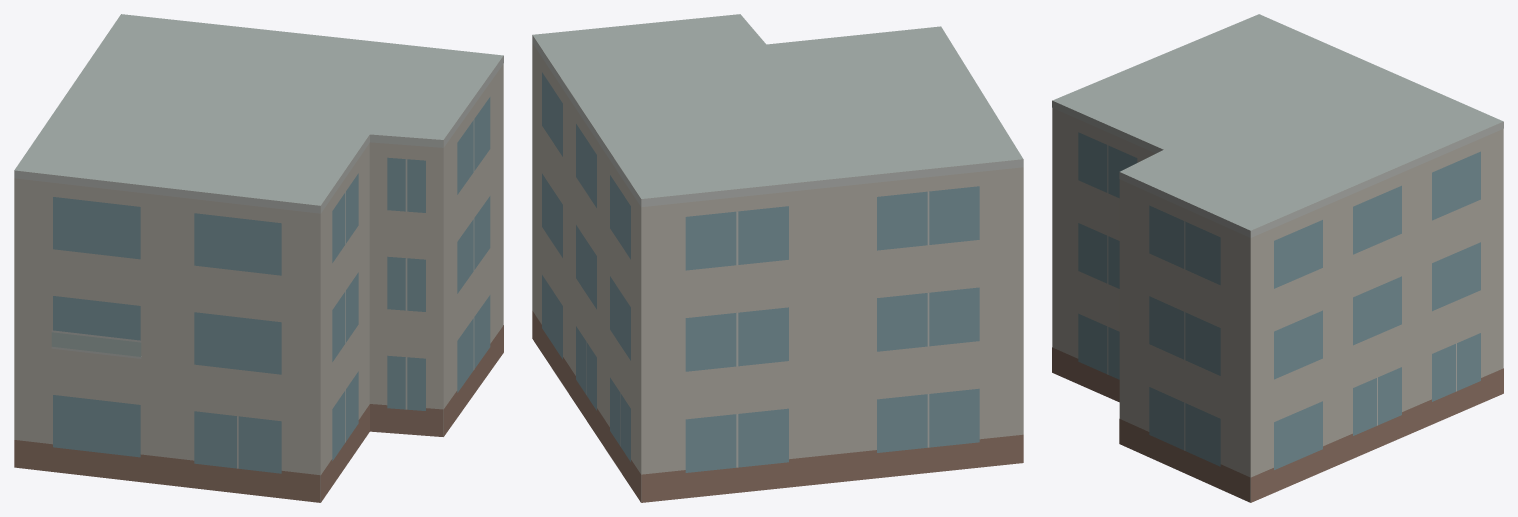
Rendered from survey-upis-32946216.glb.
3 renders of one model, left to right at view 1: azimuth 30°, elevation 25°; view 2: azimuth 150°, elevation 25°; view 3: azimuth 270°, elevation 25°, orthographic. The views are drawn at different scales.
Visible parts, largest first — view 1: survey-upis-32946216.tmp; view 2: survey-upis-32946216.tmp; view 3: survey-upis-32946216.tmp.
Part boxes in pixels (x1,y1,x2,y2): survey-upis-32946216.tmp: (14, 14, 503, 502); survey-upis-32946216.tmp: (532, 14, 1023, 502); survey-upis-32946216.tmp: (1052, 14, 1503, 502).
Size of the model in its own units: 15.64 by 9.15 by 13.77.
